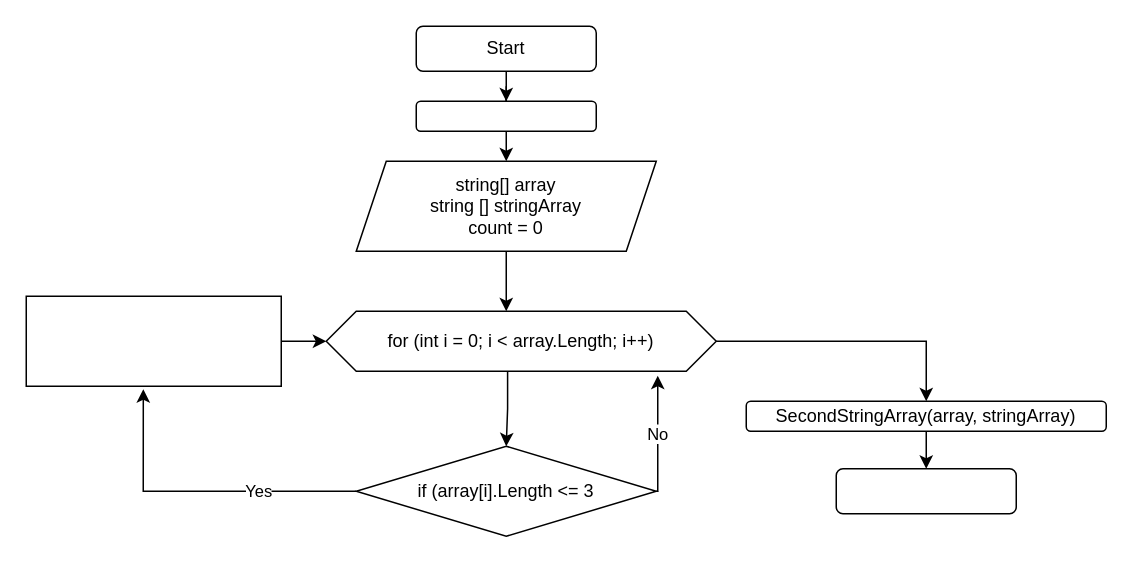
Image size: 1133x563. Some labels were removed from this diagram. Here are the shapes that lost their labels. From the top down, the box of each, then its label:
(415, 100, 596, 131): SecondStringArray
(25, 295, 281, 386): stringArray[count] = array [i] count++
(835, 467, 1016, 514): End
